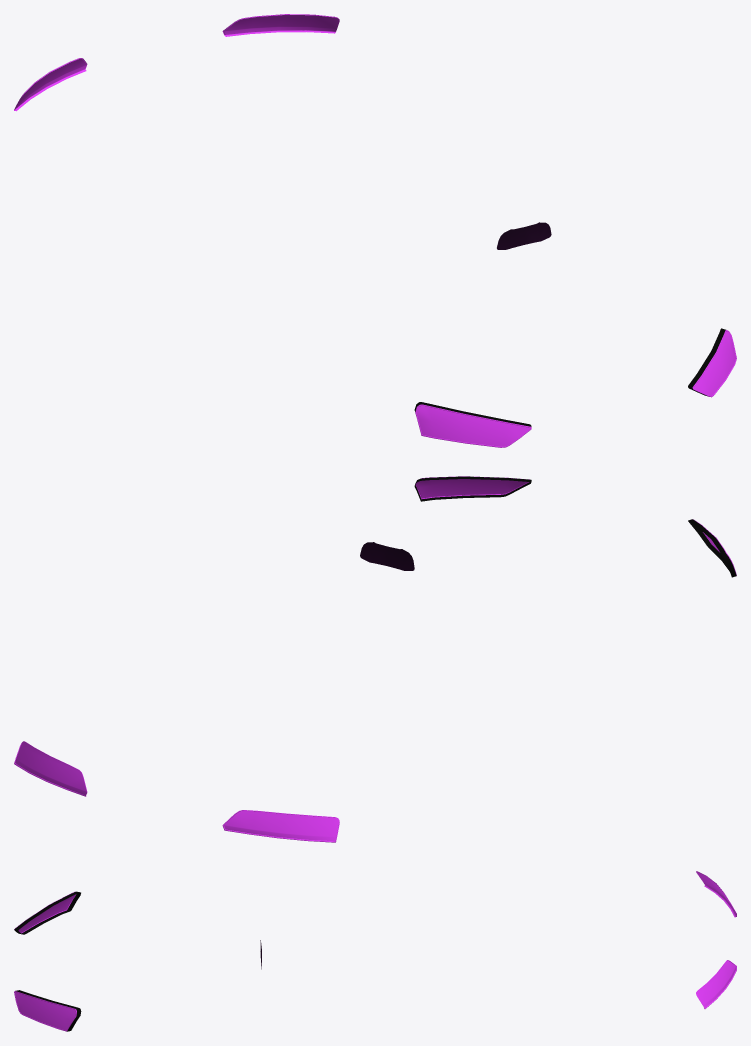
File: AudiR8_Chassis_Detail.fbx
3 views of the same model, one above another, from view 1: azimuth 30°, elevation 25°; view 2: azimuth 150°, elevation 25°; view 3: azimuth 270°, elevation 25° (orthographic). The views are drawn at different scales.
Visible parts, largest first — view 1: AudiR8_Chassis_Detail; view 2: AudiR8_Chassis_Detail; view 3: AudiR8_Chassis_Detail.
Boxes of the visible parts, x1=… form: AudiR8_Chassis_Detail: x1=14, y1=14, x2=736, y2=447; AudiR8_Chassis_Detail: x1=14, y1=476, x2=736, y2=842; AudiR8_Chassis_Detail: x1=14, y1=871, x2=736, y2=1031.
Bounding box in the file's own units: 169 × 34.71 × 418.
